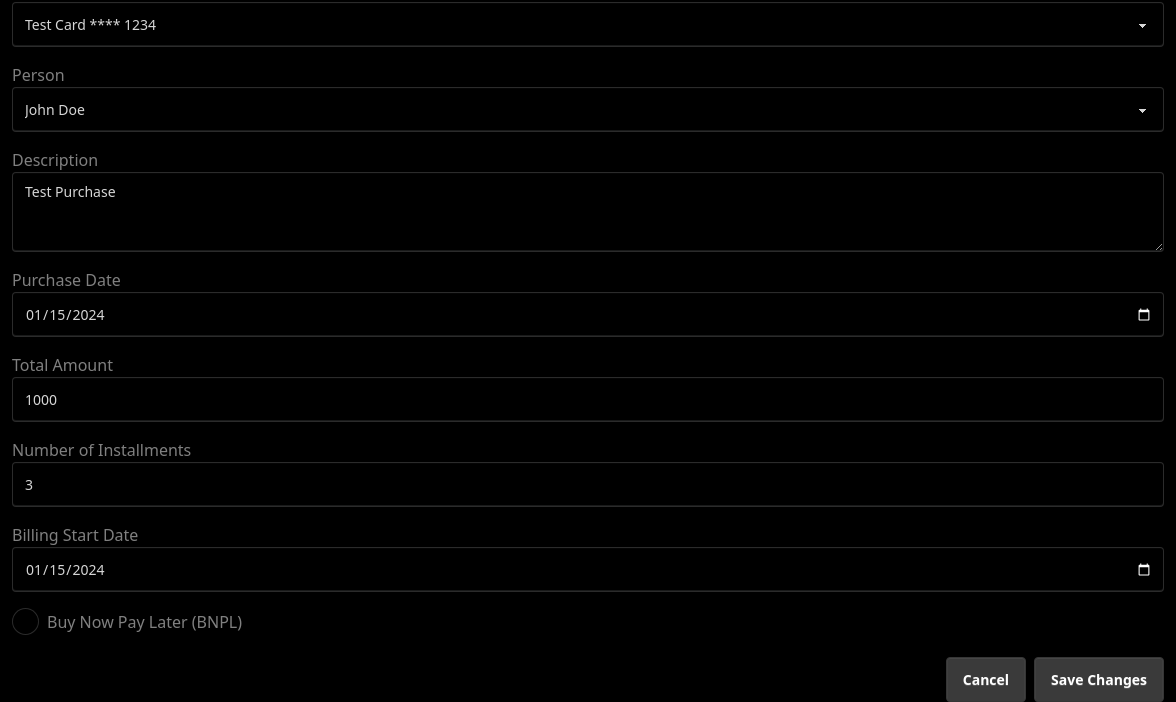
Test: PurchaseEditForm › Submission › should prevent double submission while submitting
Click the button "Save Changes" at (1099, 680), box x1=1034 y1=657 x2=1164 y2=701
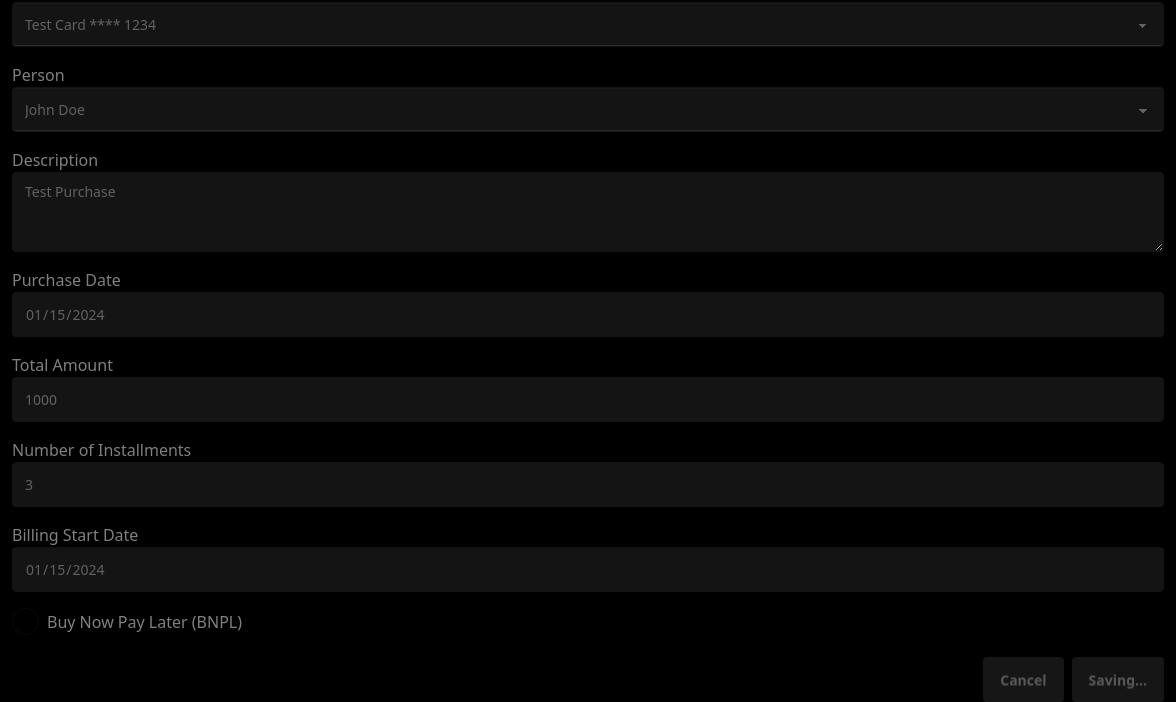
Check: the button "Saving..." is shown
// Try clicking again - should not trigger another call
Click the button "Saving..." at (1118, 680), box x1=1072 y1=657 x2=1164 y2=701
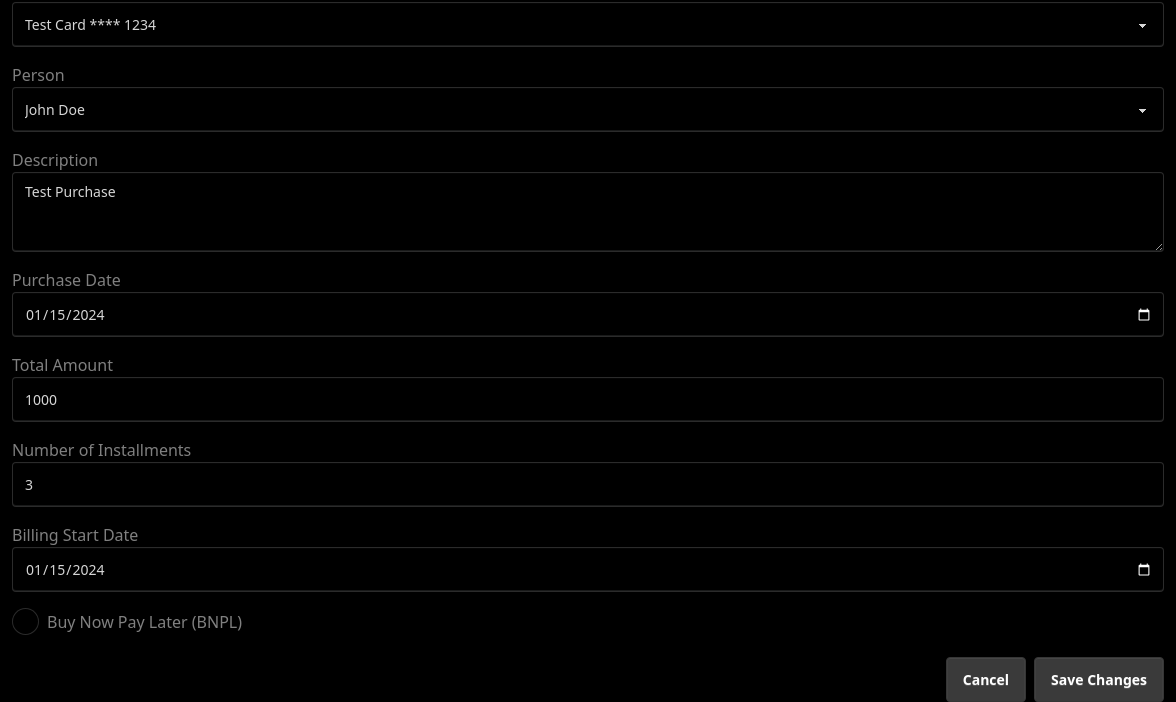
Check: the button "Save Changes" is shown, box x1=1034 y1=657 x2=1164 y2=701
